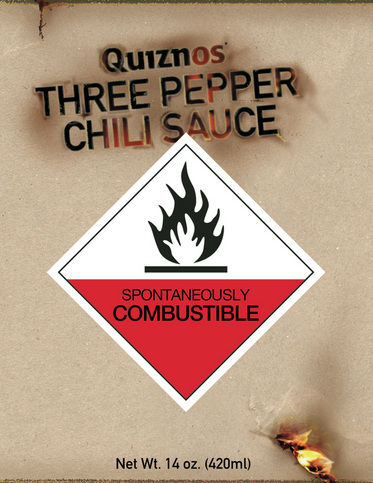SpontaneouslyCombustible: (58, 145, 313, 399)
